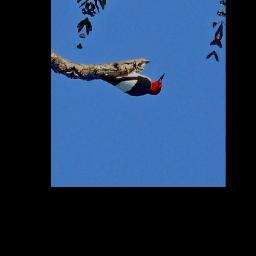Woodpecker: (82, 50, 172, 111)
